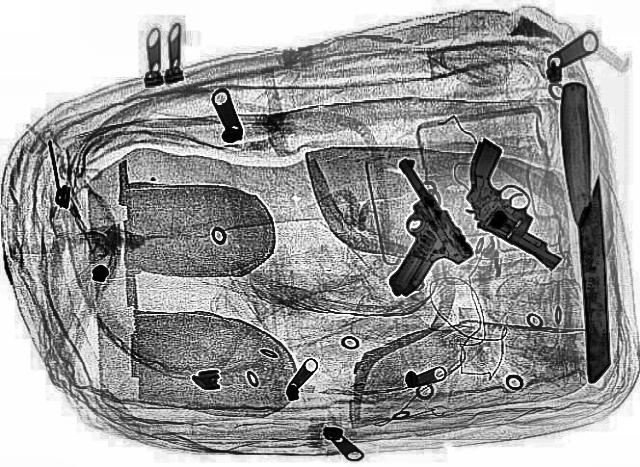Gun: (415, 137, 617, 267), (317, 159, 489, 297)
Knife: (560, 82, 610, 380)
